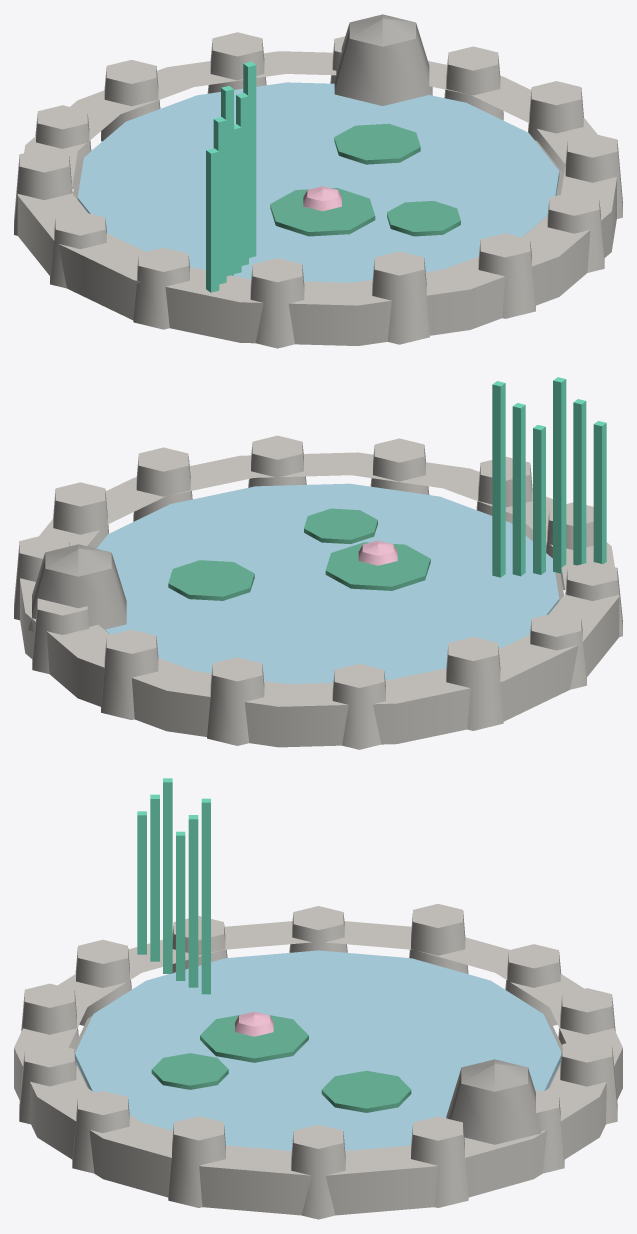
File: gardenPond.glb
3 views of the same model, one above another, from view 1: azimuth 30°, elevation 25°; view 2: azimuth 150°, elevation 25°; view 3: azimuth 270°, elevation 25° (orthographic).
Visible parts, largest first — view 1: gardenPond; view 2: gardenPond; view 3: gardenPond.
Part boxes in pixels (box(x1,y1,x2,y2)): gardenPond: box(14, 14, 622, 348); gardenPond: box(14, 377, 622, 749); gardenPond: box(14, 778, 622, 1219).
Bounding box in the file's own units: 0.97 × 0.39 × 0.95.
